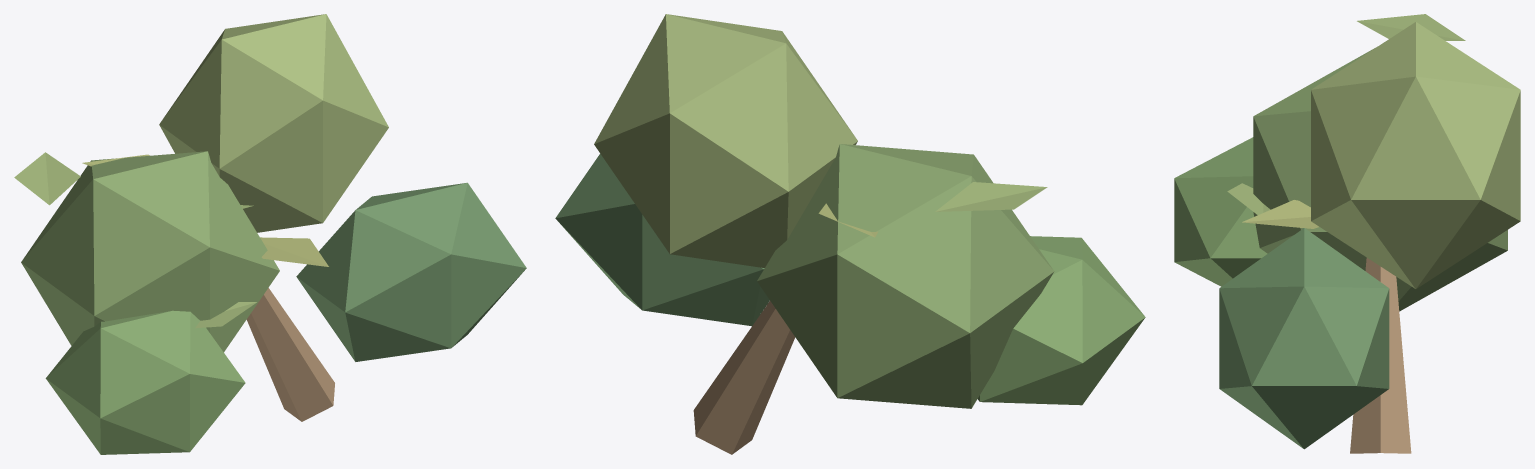
The picture shows the model from 3 angles, left to right: view 1: azimuth 30°, elevation 25°; view 2: azimuth 150°, elevation 25°; view 3: azimuth 270°, elevation 25°; orthographic projection. The views are drawn at different scales.
Parts seen in each view (by area): view 1: Body; view 2: Body; view 3: Body.
Part boxes in pixels (left/top/right/bottom): Body: left=14, top=14, right=526, bottom=454; Body: left=555, top=14, right=1145, bottom=454; Body: left=1174, top=14, right=1520, bottom=453.
Bounding box in the file's own units: 1.88 × 1.52 × 1.18.
